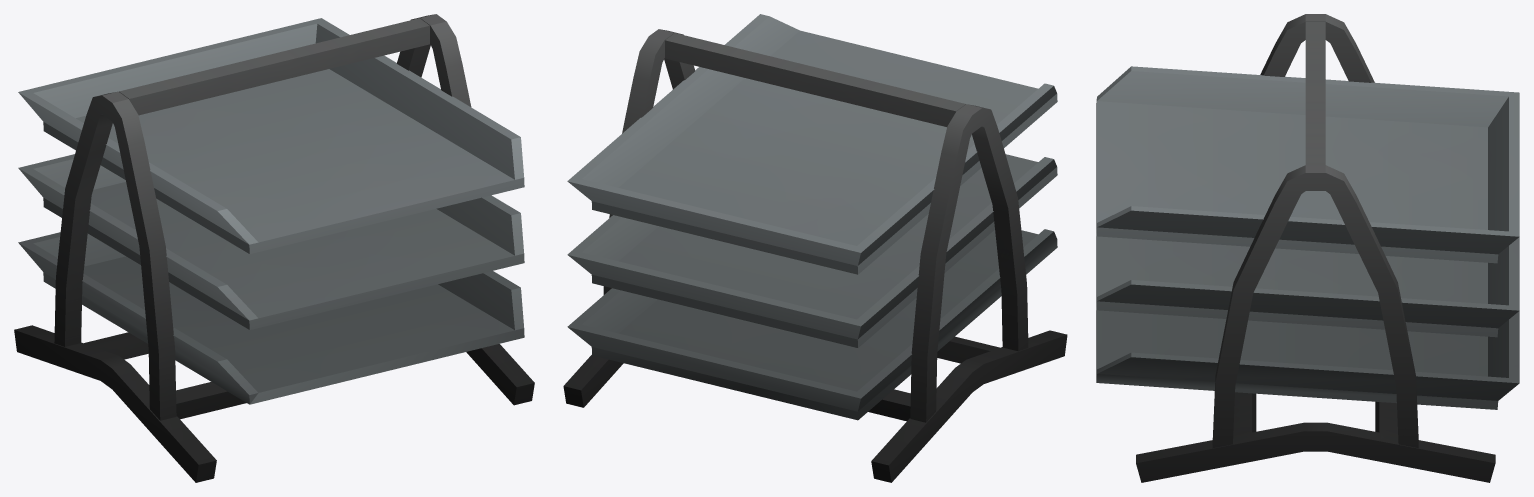
File: Tray_Stack.fbx
The picture shows the model from 3 angles, left to right: view 1: azimuth 30°, elevation 25°; view 2: azimuth 150°, elevation 25°; view 3: azimuth 270°, elevation 25°; orthographic projection. The views are drawn at different scales.
Visible parts, largest first — view 1: Tray_Stack; view 2: Tray_Stack; view 3: Tray_Stack.
Part boxes in pixels (x1,y1,x2,y2): Tray_Stack: [14, 14, 534, 482]; Tray_Stack: [563, 14, 1067, 482]; Tray_Stack: [1096, 14, 1519, 482].
Bounding box in the file's own units: 30.09 × 27.19 × 33.7.
